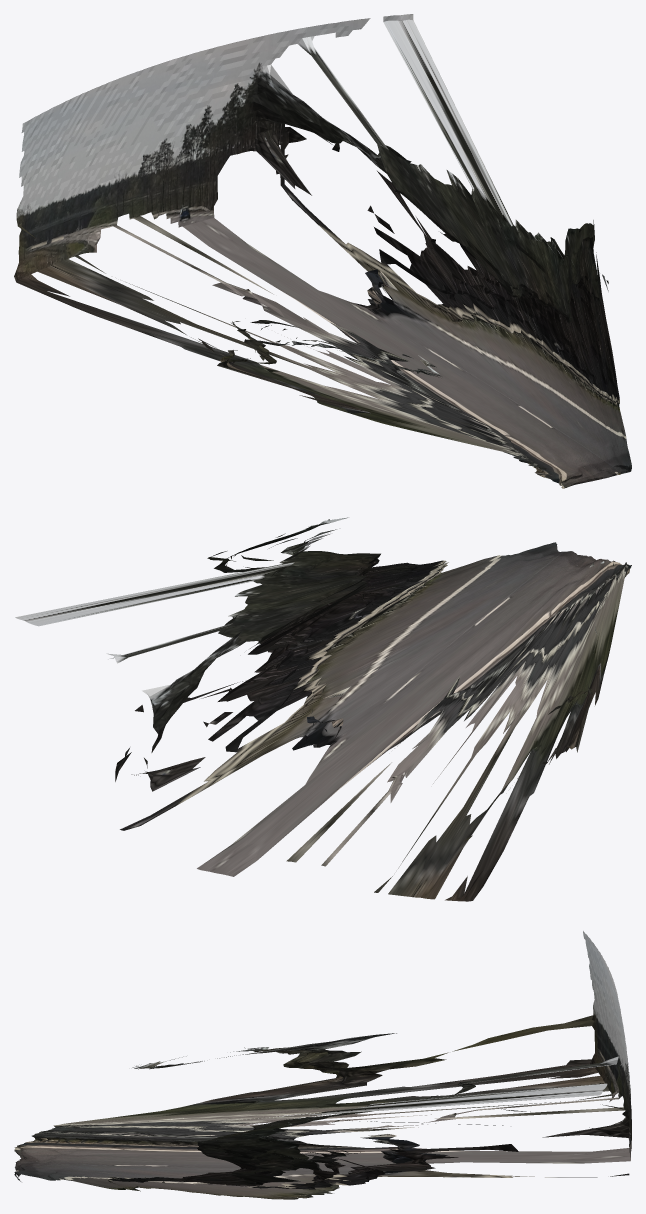
3 renders of one model, top to bottom at view 1: azimuth 30°, elevation 25°; view 2: azimuth 150°, elevation 25°; view 3: azimuth 270°, elevation 25°, orthographic. The views are drawn at different scales.
Visible parts, largest first — view 1: defaultobject; view 2: defaultobject; view 3: defaultobject.
Part boxes in pixels (x1=…): defaultobject: x1=14, y1=14, x2=631, y2=488; defaultobject: x1=15, y1=517, x2=631, y2=901; defaultobject: x1=14, y1=931, x2=631, y2=1199.
Bounding box in the file's own units: 28.96 × 11.93 × 44.39.
Materials: 1 (1 with a texture image).
